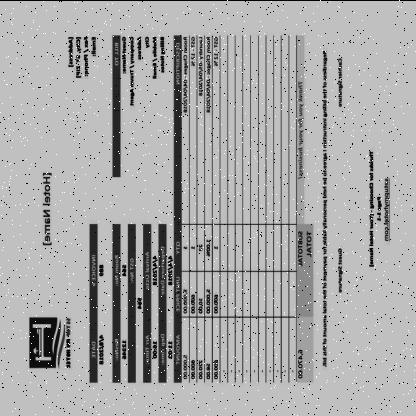Paragraph: (90, 224, 174, 382), (112, 33, 166, 108), (366, 147, 390, 267), (296, 228, 313, 382), (320, 47, 328, 369), (66, 33, 98, 83), (41, 171, 53, 247), (297, 76, 304, 180), (66, 315, 72, 368)
Table: (174, 34, 296, 382)
